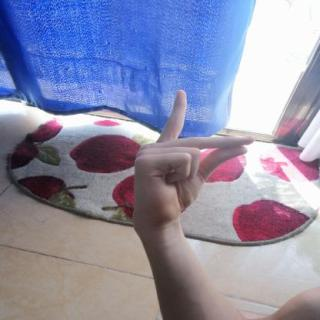TAA: (125, 83, 262, 235)
